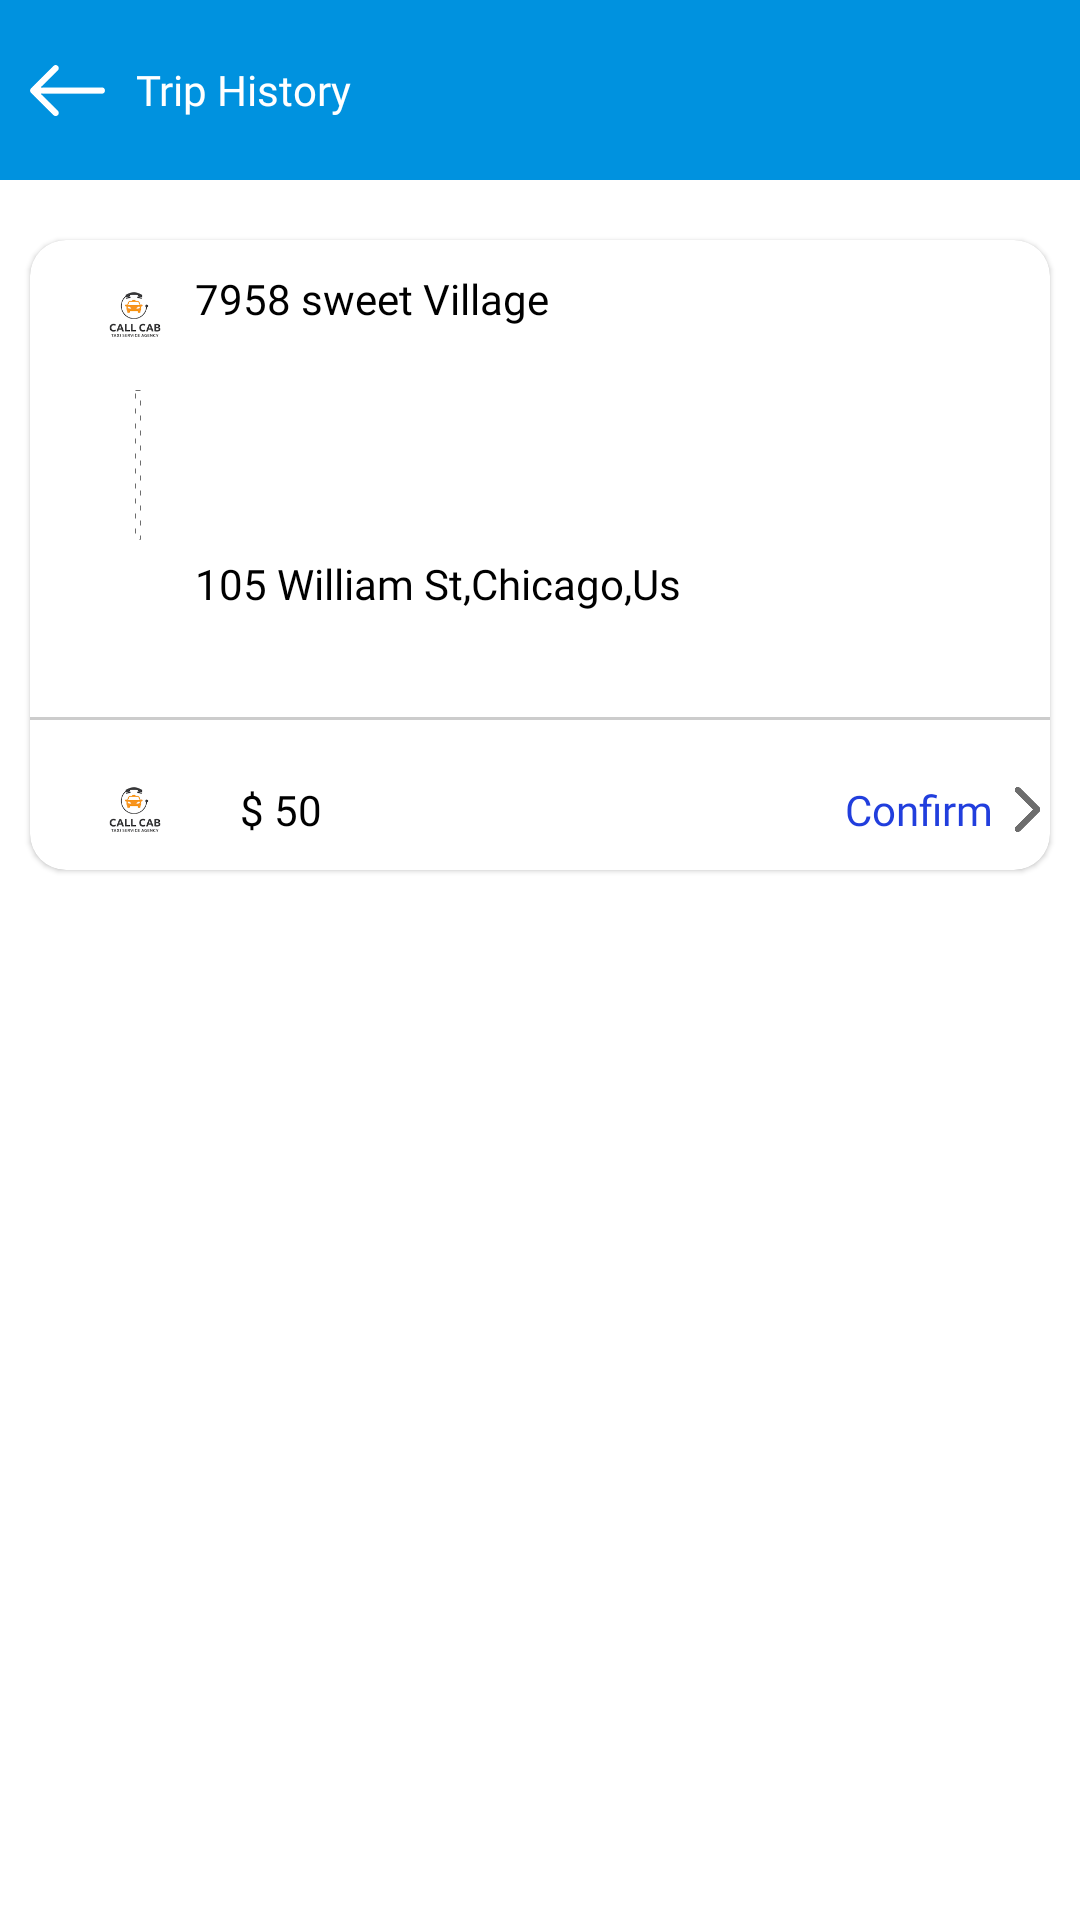

Icons on this 1080w x 1920h Android screen, each with the point to tap as [x,y]:
arrow: [1027,809]
back: [67,90]
